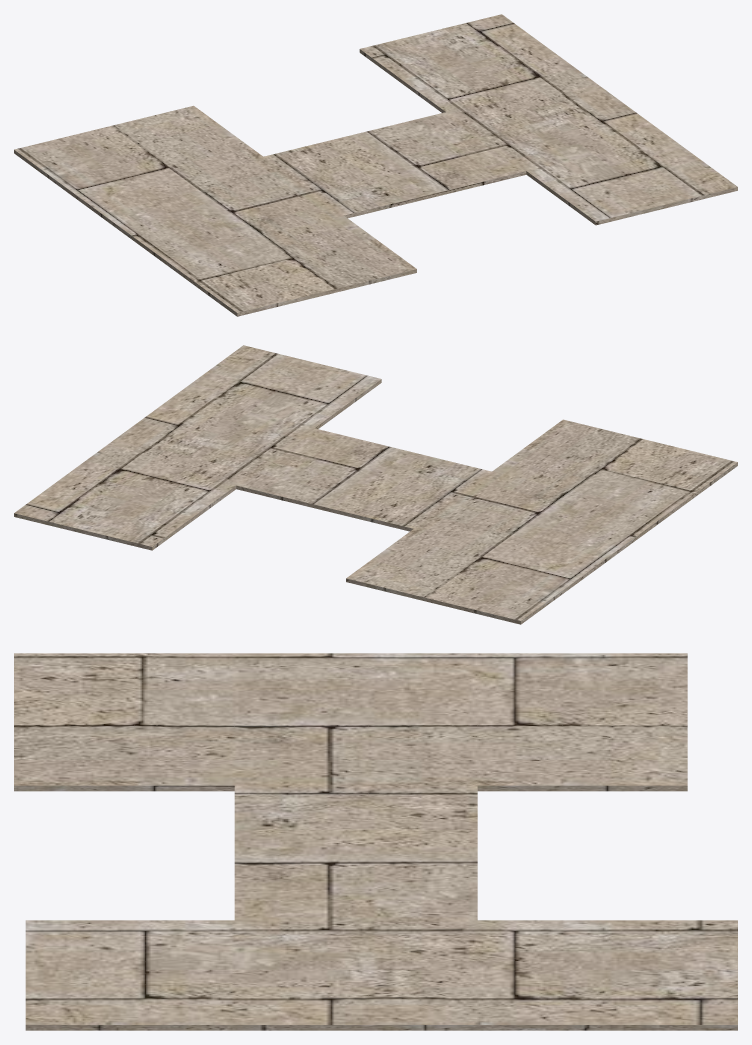
The model's file is pisoPuzzlle 2.fbx.
The picture shows the model from 3 angles, top to bottom: view 1: azimuth 30°, elevation 25°; view 2: azimuth 150°, elevation 25°; view 3: azimuth 270°, elevation 25°; orthographic projection. The views are drawn at different scales.
Parts seen in each view (by area): view 1: Cube; view 2: Cube; view 3: Cube.
Part boxes in pixels (x1,y1,x2,y2): Cube: (14,14,737,316); Cube: (14,345,737,624); Cube: (14,653,737,1030).
Bounding box in the file's own units: 109301 × 782 × 90011.
